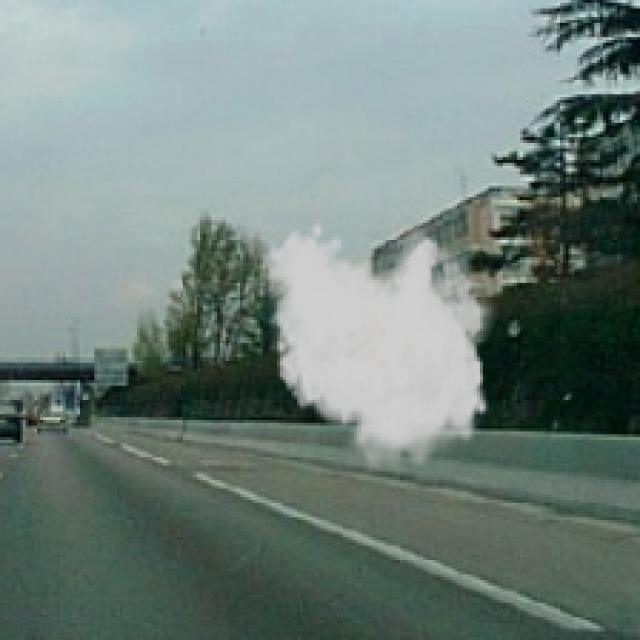Smoke: (263, 220, 503, 477)
